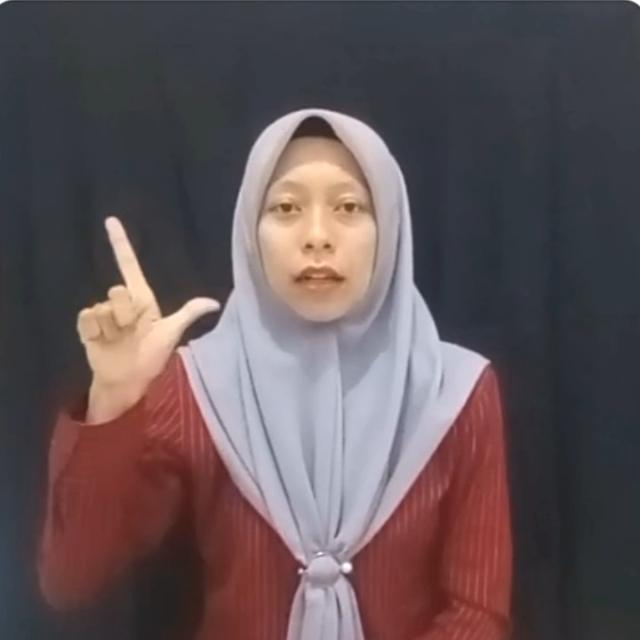L: (66, 212, 226, 388)
